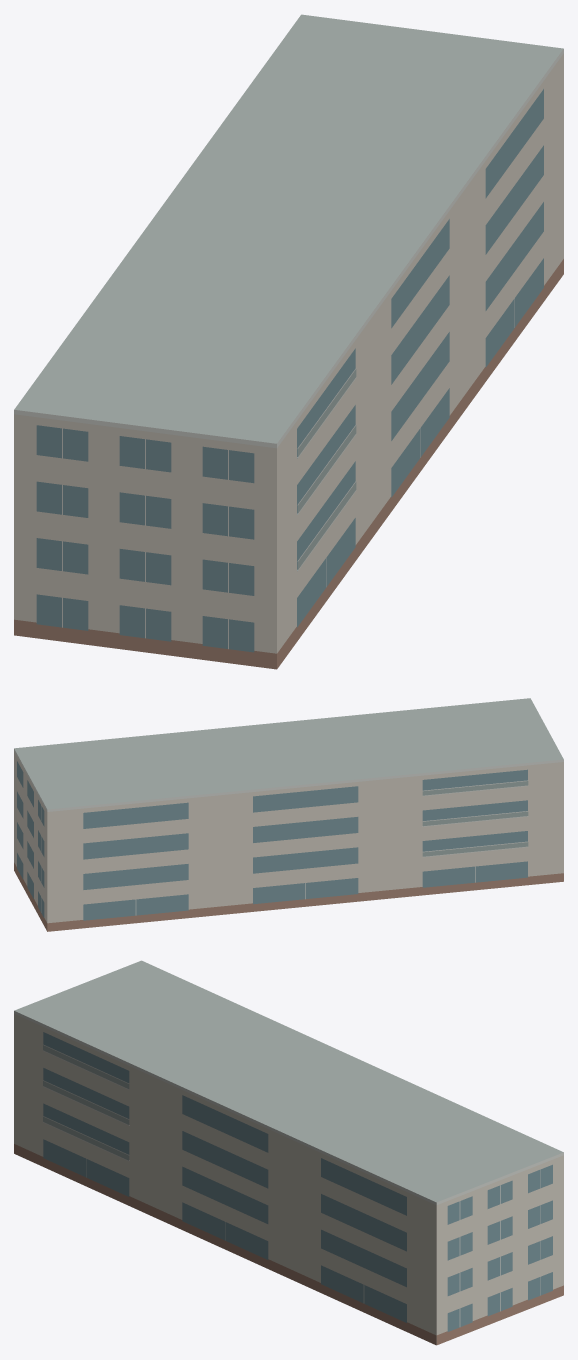
The model's file is residential-fb9557f8-0aff-4b9a-8b15-8894c82865a6.glb.
The picture shows the model from 3 angles, top to bottom: view 1: azimuth 30°, elevation 25°; view 2: azimuth 150°, elevation 25°; view 3: azimuth 270°, elevation 25°; orthographic projection. The views are drawn at different scales.
Parts seen in each view (by area): view 1: residential-fb9557f8-0aff-4b9a-8b15-8894c82865a6.tmp; view 2: residential-fb9557f8-0aff-4b9a-8b15-8894c82865a6.tmp; view 3: residential-fb9557f8-0aff-4b9a-8b15-8894c82865a6.tmp.
Boxes of the visible parts, left/top/right/bottom form: residential-fb9557f8-0aff-4b9a-8b15-8894c82865a6.tmp: left=14, top=14, right=563, bottom=669; residential-fb9557f8-0aff-4b9a-8b15-8894c82865a6.tmp: left=14, top=698, right=563, bottom=931; residential-fb9557f8-0aff-4b9a-8b15-8894c82865a6.tmp: left=14, top=960, right=563, bottom=1345.
Size of the model in its own units: 44.28 by 12.2 by 42.52.
